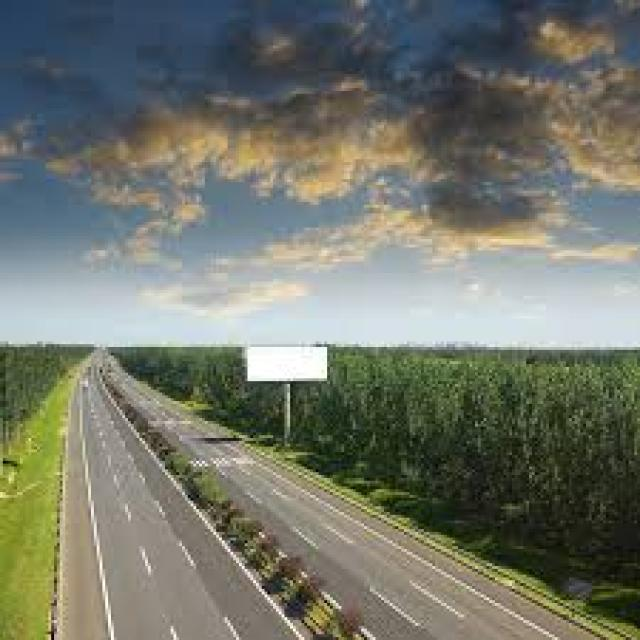Billboard_RHS: (237, 340, 350, 390)
Roadcorner: (358, 518, 573, 637), (164, 473, 312, 637), (75, 419, 128, 637)
Roadlane: (223, 472, 439, 637), (282, 494, 485, 628), (89, 408, 195, 637), (136, 477, 263, 637)
